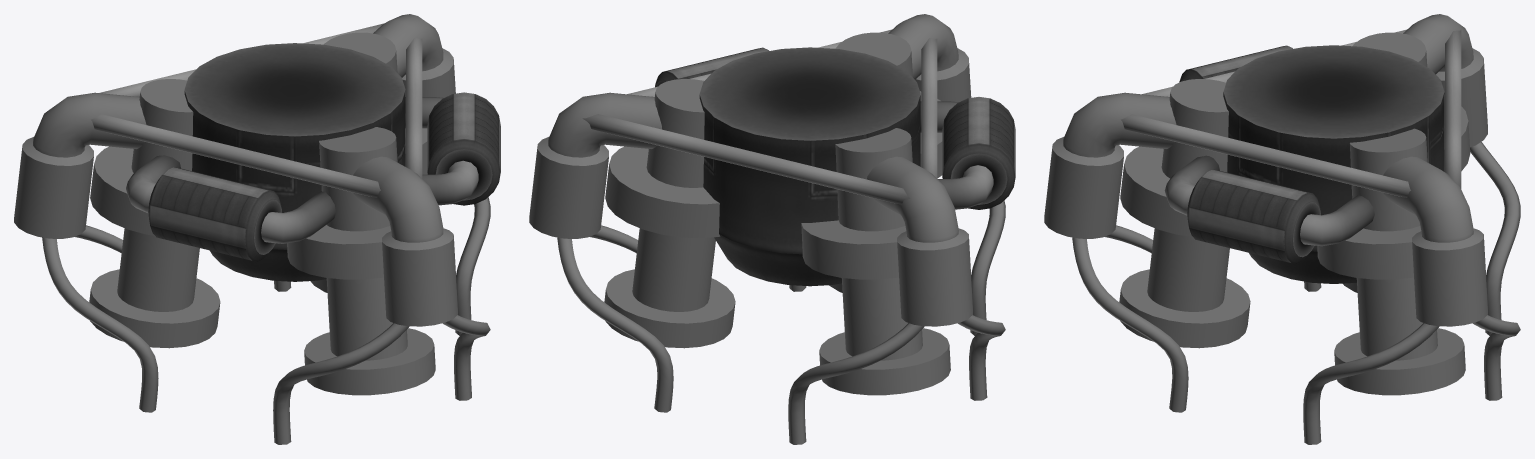
File: navahobla.dae
3 renders of one model, left to right at view 1: azimuth 30°, elevation 25°; view 2: azimuth 150°, elevation 25°; view 3: azimuth 270°, elevation 25°, orthographic.
Parts seen in each view (by area): view 1: polySurface29; view 2: polySurface29; view 3: polySurface29.
Boxes of the visible parts, box(x1,y1,x2,y2) form: polySurface29: box(14, 14, 500, 444); polySurface29: box(529, 14, 1015, 444); polySurface29: box(1044, 14, 1520, 444).
Bounding box in the file's own units: 0.7904 × 0.4755 × 0.7496.
